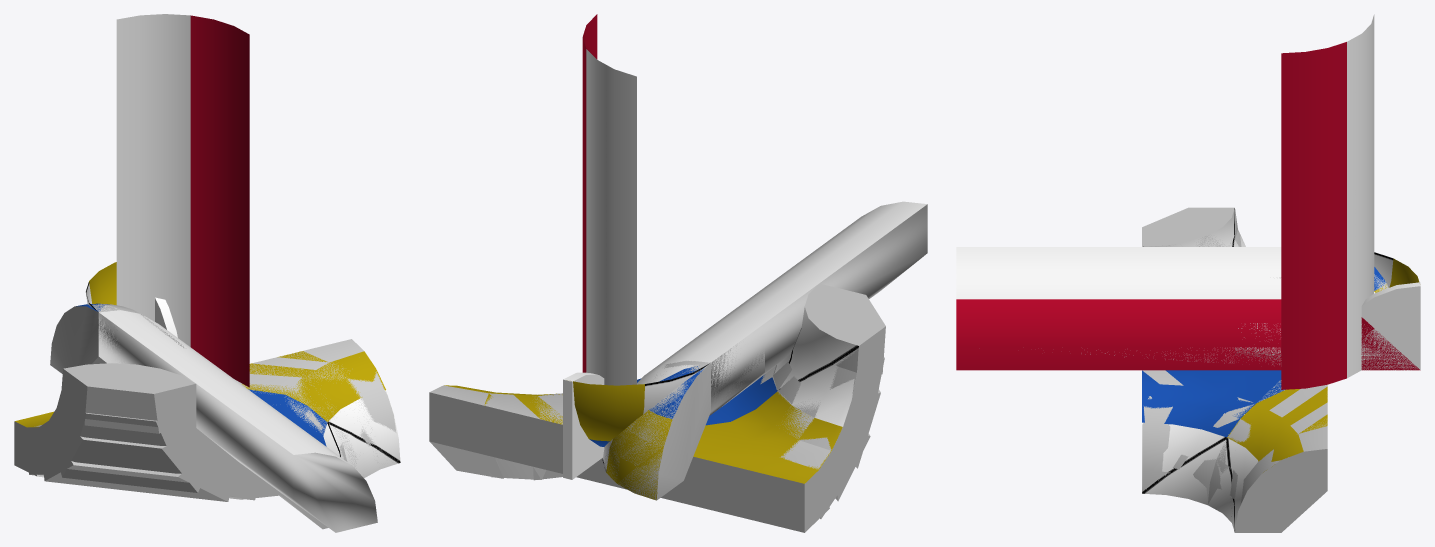
Rendered from ModularGrid_curves.fbx.
The picture shows the model from 3 angles, left to right: view 1: azimuth 30°, elevation 25°; view 2: azimuth 150°, elevation 25°; view 3: azimuth 270°, elevation 25°; orthographic projection. The views are drawn at different scales.
Parts seen in each view (by area): view 1: corner_convex_1x1x4curve, corner_concave_1x1x2, corner_concave_1x1x4, col_curve_convex_4m, curve_corner_base_convex, col_curve_concave_corner_base, curve_convex_4m, col_curve_concave_corner_base2, col_curve_concave_corner_base3, col_curve_concave_corner_base1, col_curve_convex_corner, col_curve_convex_corner_base (+8 smaller); view 2: corner_concave_1x1x4, curve_corner_base_concave, col_curve_convex_4m, curve_convex_4m, col_curve_concave_corner_base5, col_curve_convex_corner, curve_corner_convex, col_curve_convex_corner_base, col_curve_concave_corner_base, curve_corner_concave, col_curve_convex_corner_base1, corner_convex_1x1x4curve (+10 smaller); view 3: curve_convex_4m, corner_concave_1x1x4, curve_corner_base_convex, col_curve_convex_corner_base, curve_convex_1m, corner_convex_1x1x4curve, corner_cap_convex_1m, corner_convex_1x1x2curve, col_curve_concave_corner_base, col_curve_convex_corner_base5, col, col_curve_convex_corner_base2 (+8 smaller).
Part boxes in pixels (x1=…): corner_convex_1x1x4curve: x1=116, y1=14, x2=249, y2=386; corner_concave_1x1x2: x1=116, y1=190, x2=249, y2=387; corner_concave_1x1x4: x1=134, y1=14, x2=249, y2=385; col_curve_convex_4m: x1=98, y1=314, x2=377, y2=532; curve_corner_base_convex: x1=242, y1=351, x2=400, y2=478; col_curve_concave_corner_base: x1=61, y1=363, x2=196, y2=433; curve_convex_4m: x1=100, y1=310, x2=351, y2=465; col_curve_concave_corner_base2: x1=49, y1=408, x2=218, y2=492; col_curve_concave_corner_base3: x1=39, y1=421, x2=232, y2=501; col_curve_concave_corner_base1: x1=56, y1=390, x2=199, y2=457; col_curve_convex_corner: x1=50, y1=303, x2=139, y2=373; col_curve_convex_corner_base: x1=303, y1=339, x2=397, y2=462; corner_concave_1x1x4: x1=582, y1=16, x2=636, y2=385; curve_corner_base_concave: x1=693, y1=307, x2=858, y2=483; col_curve_convex_4m: x1=711, y1=204, x2=927, y2=410; curve_convex_4m: x1=666, y1=201, x2=927, y2=363; col_curve_concave_corner_base5: x1=617, y1=457, x2=829, y2=532; col_curve_convex_corner: x1=602, y1=360, x2=710, y2=500; curve_corner_convex: x1=602, y1=360, x2=703, y2=499; col_curve_convex_corner_base: x1=429, y1=385, x2=503, y2=478; col_curve_concave_corner_base: x1=804, y1=283, x2=885, y2=374; curve_corner_concave: x1=571, y1=363, x2=709, y2=446; col_curve_convex_corner_base1: x1=484, y1=393, x2=545, y2=479; corner_convex_1x1x4curve: x1=585, y1=14, x2=616, y2=383; curve_convex_4m: x1=956, y1=247, x2=1281, y2=370; corner_concave_1x1x4: x1=1281, y1=14, x2=1374, y2=389; curve_corner_base_convex: x1=1142, y1=370, x2=1327, y2=532; col_curve_convex_corner_base: x1=1235, y1=426, x2=1327, y2=532; curve_convex_1m: x1=1235, y1=247, x2=1281, y2=370; corner_convex_1x1x4curve: x1=1281, y1=27, x2=1370, y2=388; corner_cap_convex_1m: x1=1361, y1=286, x2=1420, y2=369; corner_convex_1x1x2curve: x1=1281, y1=192, x2=1371, y2=386; col_curve_concave_corner_base: x1=1142, y1=207, x2=1237, y2=246; col_curve_convex_corner_base5: x1=1142, y1=370, x2=1183, y2=491; col: x1=1361, y1=286, x2=1420, y2=369; col_curve_convex_corner_base2: x1=1207, y1=384, x2=1327, y2=504.
Size of what is drawn, in the model's own units: 400 by 500 by 500.
